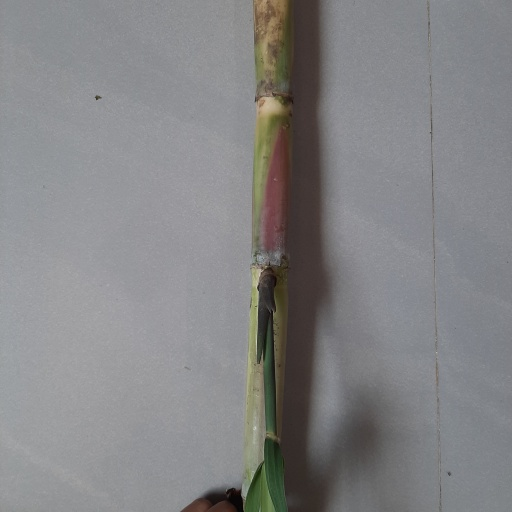Sprouted_Bud: (257, 266, 277, 321)
